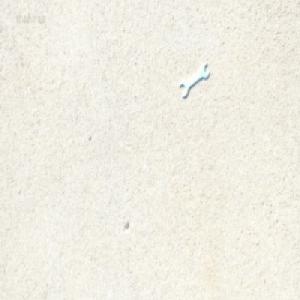Wrench: (181, 63, 209, 98)
